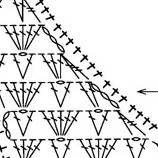enseble_chain: (102, 98, 154, 148), (79, 71, 126, 120), (33, 19, 71, 59), (51, 46, 88, 86), (15, 77, 51, 113), (54, 106, 89, 142), (35, 104, 66, 141), (36, 48, 66, 85), (81, 95, 105, 139), (50, 79, 81, 112), (92, 109, 118, 140), (16, 53, 42, 83), (17, 109, 42, 140), (19, 0, 47, 27), (117, 131, 143, 158), (20, 135, 48, 158), (98, 135, 124, 158), (9, 0, 32, 26), (17, 24, 34, 51), (56, 137, 77, 158), (136, 83, 158, 100), (87, 139, 101, 158)
fan: (0, 78, 26, 113), (9, 52, 28, 82)
